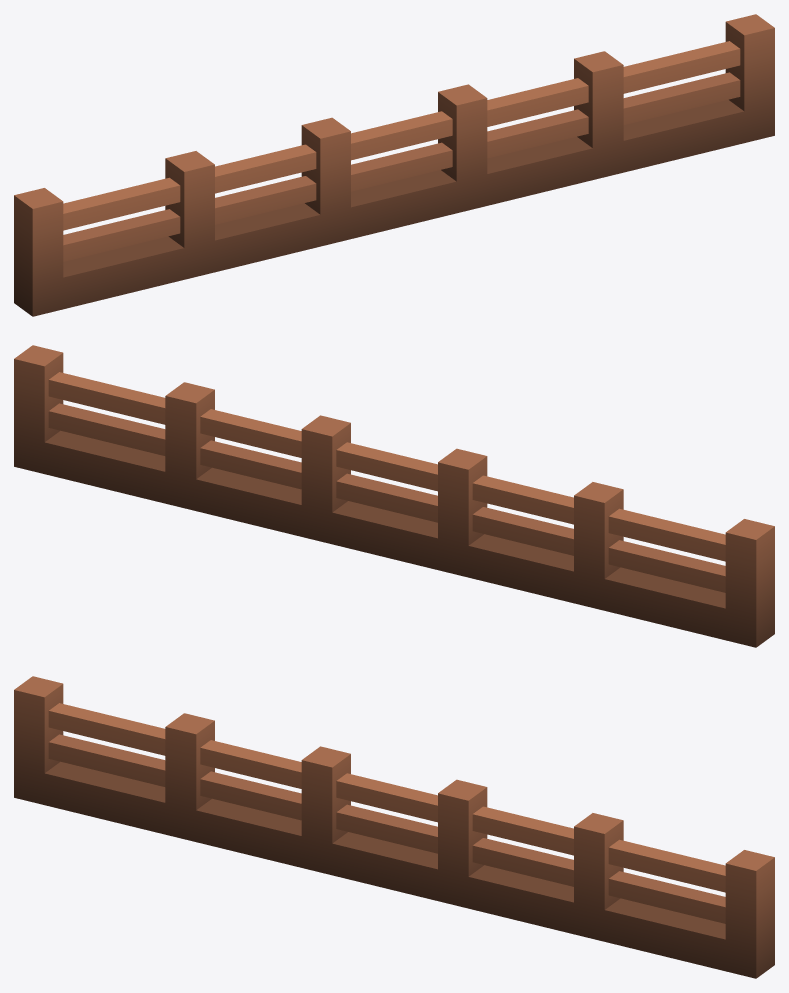
File: fence wood.fbx
3 views of the same model, one above another, from view 1: azimuth 30°, elevation 25°; view 2: azimuth 150°, elevation 25°; view 3: azimuth 330°, elevation 25° (orthographic).
Parts seen in each view (by area): view 1: fence_wood; view 2: fence_wood; view 3: fence_wood.
Part boxes in pixels (<box>): fence_wood: <box>14,14,774,316</box>; fence_wood: <box>14,345,774,647</box>; fence_wood: <box>14,676,774,978</box>.
Bounding box in the file's own units: 1562 × 217 × 68.49.
1 material, 1 textured.
